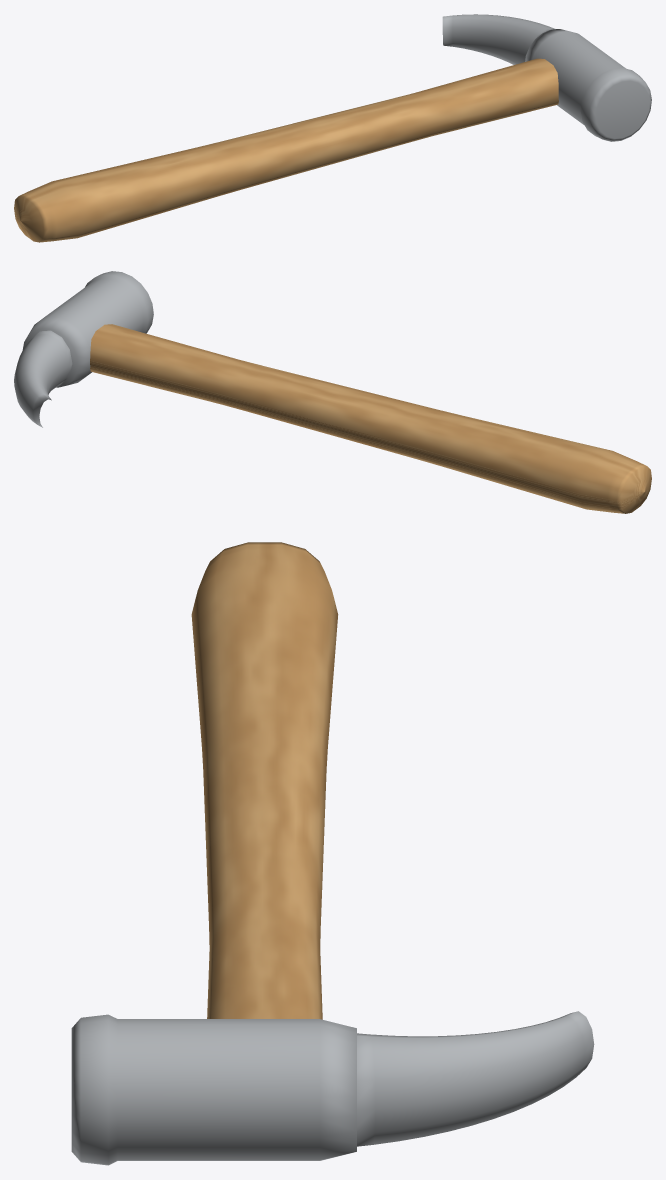
3 views of the same model, one above another, from view 1: azimuth 30°, elevation 25°; view 2: azimuth 150°, elevation 25°; view 3: azimuth 270°, elevation 25° (orthographic). The views are drawn at different scales.
Visible parts, largest first — view 1: Claw hammer; view 2: Claw hammer; view 3: Claw hammer.
Boxes of the visible parts, bbox=[...] form: Claw hammer: bbox=[14, 14, 651, 242]; Claw hammer: bbox=[14, 271, 651, 513]; Claw hammer: bbox=[71, 542, 594, 1165].
Bounding box in the file's own units: 0.2944 × 0.033 × 0.1136.
Materials: 2 (1 with a texture image).
